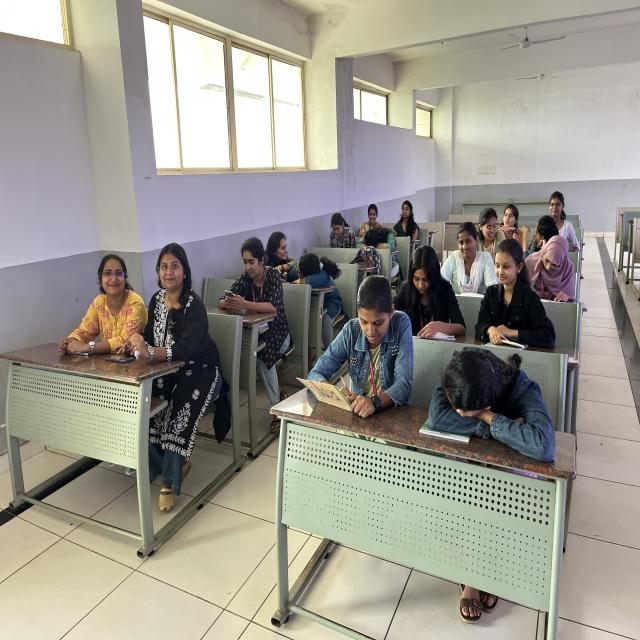Reading: (398, 239, 467, 346), (325, 210, 358, 256)
Sleeping: (427, 340, 558, 460), (357, 226, 399, 283), (294, 253, 328, 288)
Using Phone: (219, 233, 292, 370)
Writing: (316, 275, 410, 420), (522, 232, 583, 305)
